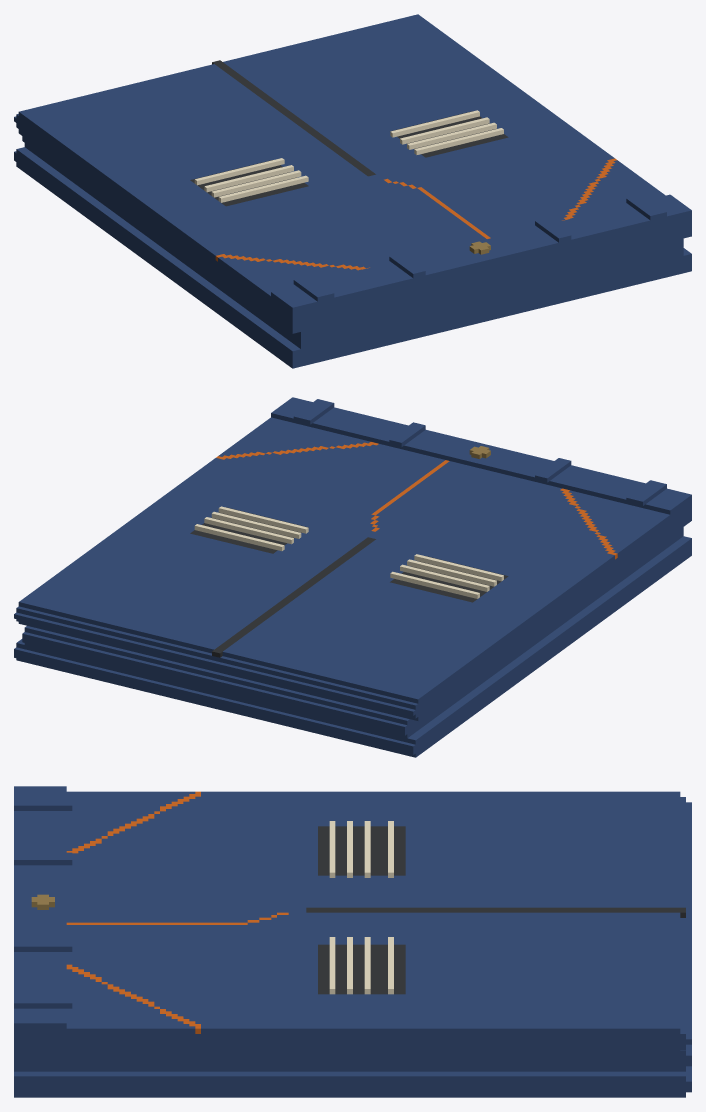
File: jeans_ripped.glb
3 renders of one model, top to bottom at view 1: azimuth 30°, elevation 25°; view 2: azimuth 150°, elevation 25°; view 3: azimuth 270°, elevation 25°, orthographic. The views are drawn at different scales.
Parts seen in each view (by area): view 1: jeans_ripped:compound; view 2: jeans_ripped:compound; view 3: jeans_ripped:compound.
Boxes of the visible parts, box(x1,y1,x2,y2) form: jeans_ripped:compound: box(14, 14, 691, 368); jeans_ripped:compound: box(14, 397, 691, 757); jeans_ripped:compound: box(14, 786, 691, 1097).
Size of the model in its own units: 0.384 by 0.06 by 0.464.
